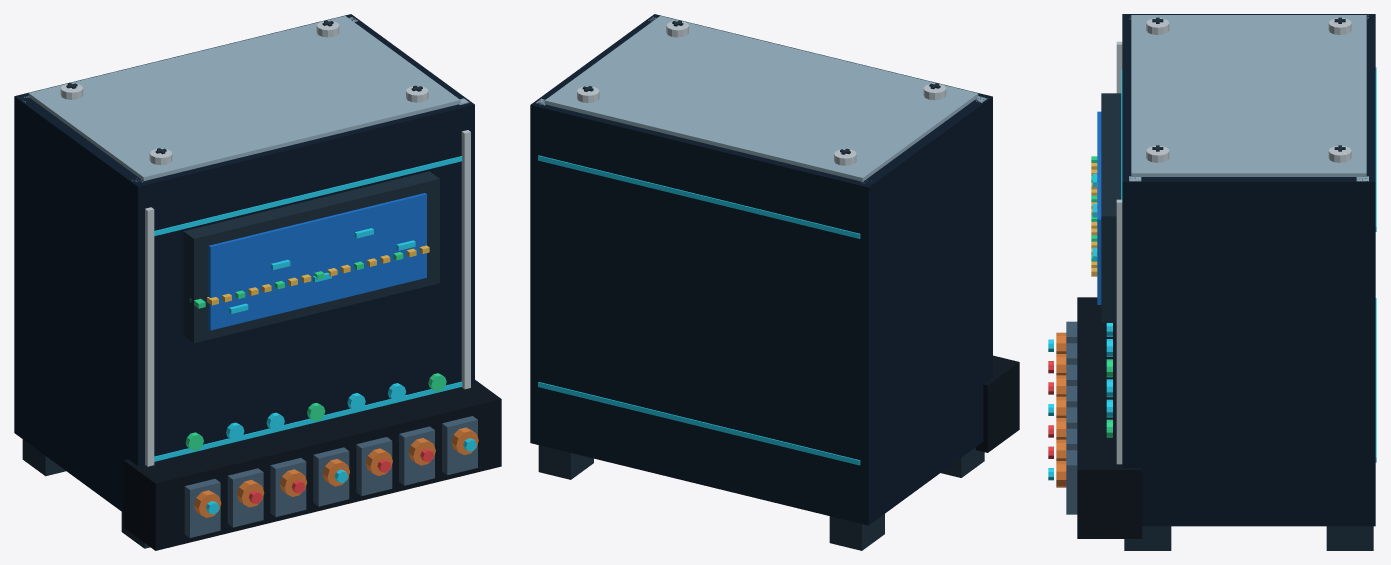
The model's file is 43_L75_IntegratedIonDoseController.fbx.
The picture shows the model from 3 angles, left to right: view 1: azimuth 30°, elevation 25°; view 2: azimuth 150°, elevation 25°; view 3: azimuth 270°, elevation 25°; orthographic projection. The views are drawn at different scales.
Visible parts, largest first — view 1: IntegratedIonDoseController; view 2: IntegratedIonDoseController; view 3: IntegratedIonDoseController.
Boxes of the visible parts, left/top/right/bottom form: IntegratedIonDoseController: left=14, top=14, right=501, bottom=550; IntegratedIonDoseController: left=530, top=14, right=1019, bottom=550; IntegratedIonDoseController: left=1048, top=14, right=1376, bottom=550.
Bounding box in the file's own units: 113 × 118 × 90.8.
